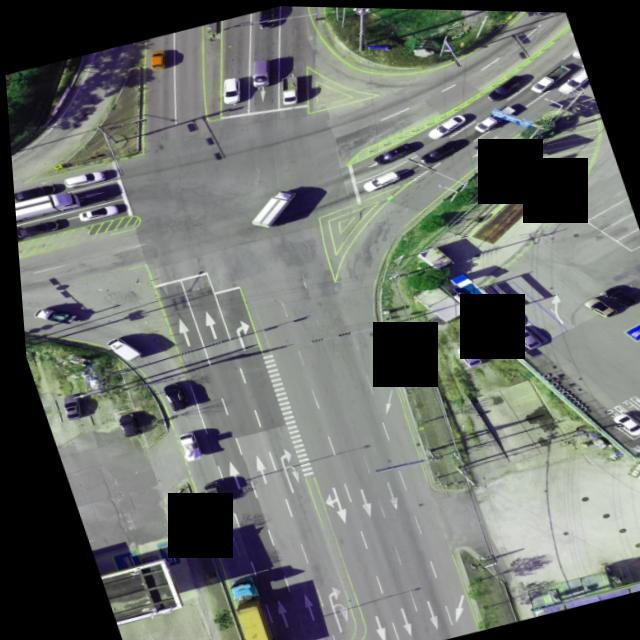car: (412, 135, 471, 167), (483, 70, 532, 102), (594, 277, 640, 310), (419, 110, 468, 140), (572, 290, 611, 321), (13, 217, 63, 240), (552, 66, 591, 95), (10, 180, 59, 203), (374, 140, 420, 163), (243, 56, 275, 89), (57, 168, 101, 190), (606, 409, 640, 437), (357, 168, 400, 190), (506, 321, 538, 350), (72, 202, 114, 223), (155, 381, 182, 413), (215, 75, 244, 104), (483, 307, 512, 333), (450, 342, 477, 368), (255, 5, 284, 29), (108, 412, 133, 438), (53, 396, 77, 421), (144, 47, 167, 69), (632, 402, 640, 427), (632, 337, 640, 359)
large_truck: (215, 578, 272, 640)
medium_truck: (11, 190, 72, 233), (241, 190, 301, 233), (617, 444, 640, 509)
small_truck: (466, 98, 527, 134), (524, 59, 574, 92), (98, 331, 140, 366), (26, 303, 72, 331), (273, 72, 303, 105), (167, 431, 195, 463), (195, 482, 219, 509)
